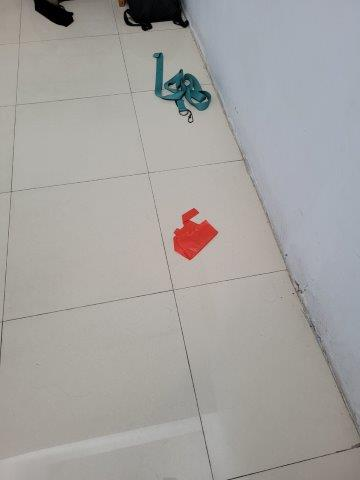plastik: (167, 208, 216, 261)
